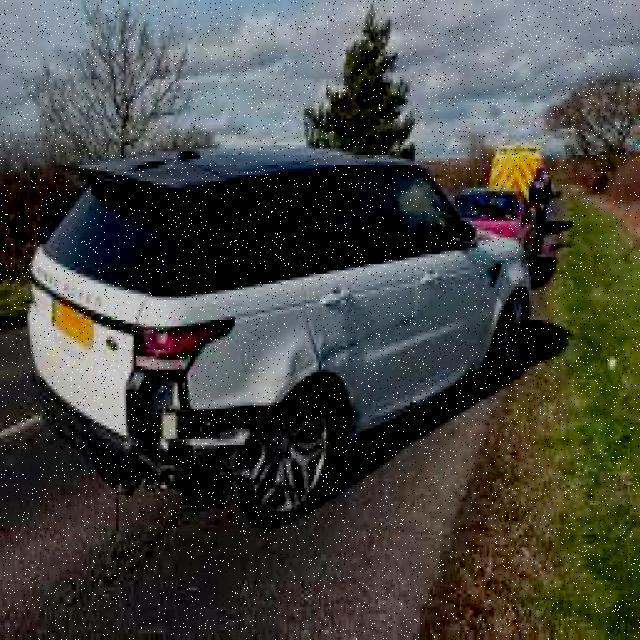car damage: (113, 336, 363, 504)
